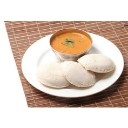idly: (38, 63, 70, 89), (64, 62, 95, 88), (80, 54, 117, 72)
